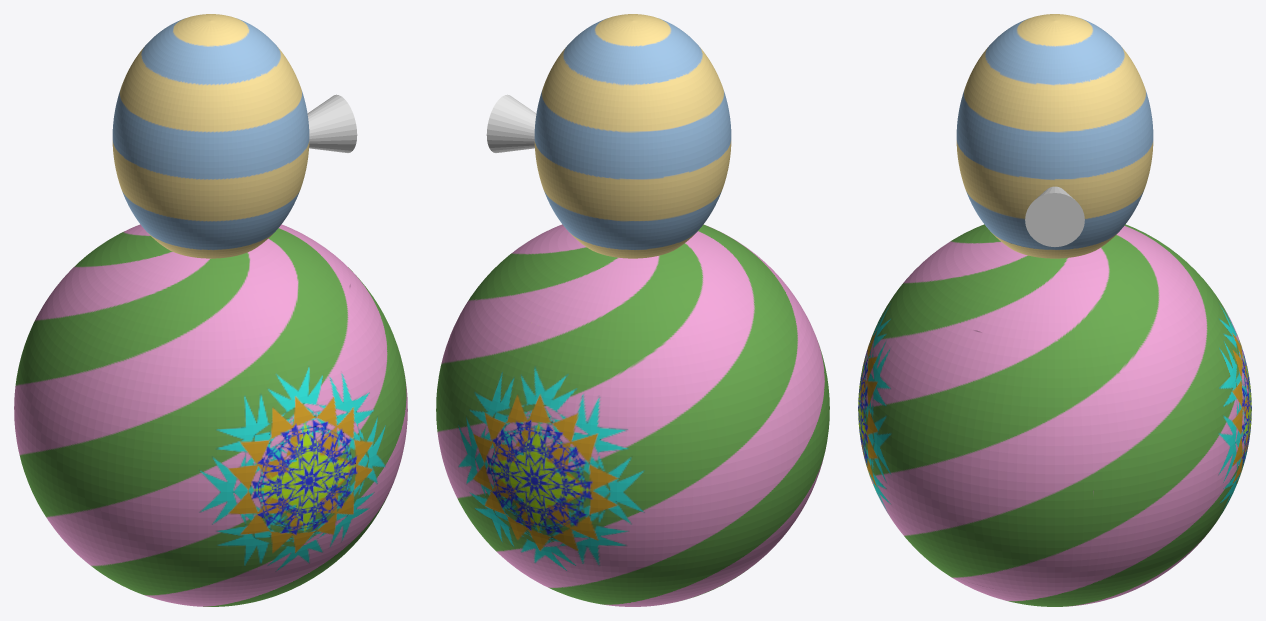
The model's file is BOD0_BMC17_BCC7_BPT3_FRC30_HEA2_HMC13_HCC15_HPT1_ELT0_ERT3_ELL2_ERL2_AP0_AAL0_AAR0_BEK0.fbx.
The picture shows the model from 3 angles, left to right: view 1: azimuth 30°, elevation 25°; view 2: azimuth 150°, elevation 25°; view 3: azimuth 270°, elevation 25°; orthographic projection.
Visible parts, largest first — view 1: Body, Ear; view 2: Body, Ear; view 3: Body, Ear.
Boxes of the visible parts, left/top/right/bottom form: Body: left=14, top=14, right=407, bottom=606; Ear: left=307, top=94, right=357, bottom=152; Body: left=436, top=14, right=829, bottom=606; Ear: left=486, top=94, right=536, bottom=152; Body: left=858, top=14, right=1251, bottom=606; Ear: left=1025, top=186, right=1084, bottom=246.
Bounding box in the file's own units: 49.36 × 78.65 × 49.36.
Materials: 1 (1 with a texture image).
